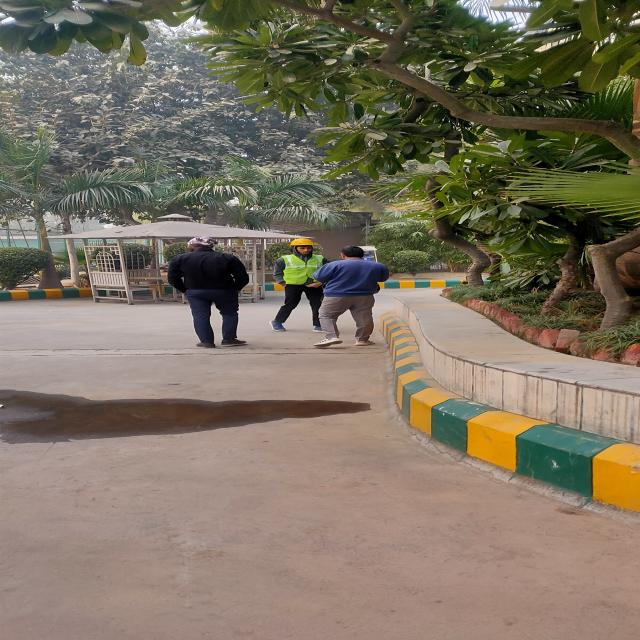safe: (272, 238, 323, 332)
unsafe: (169, 238, 251, 348), (315, 247, 390, 348)
